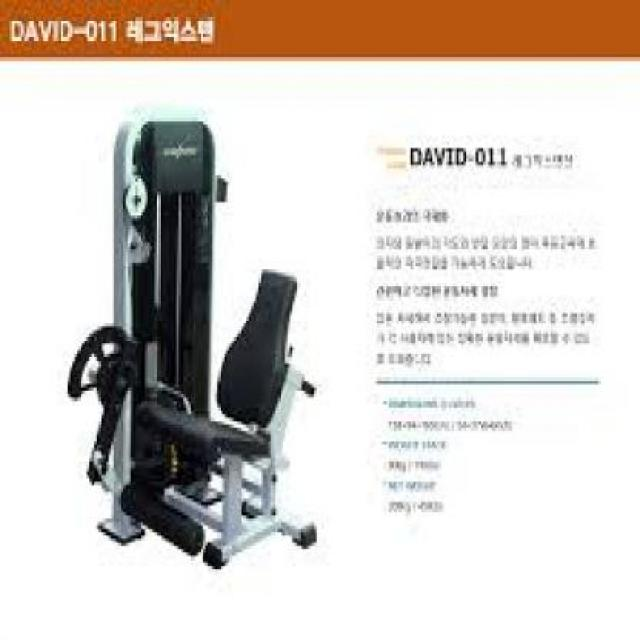leg extension: (55, 105, 343, 592)
